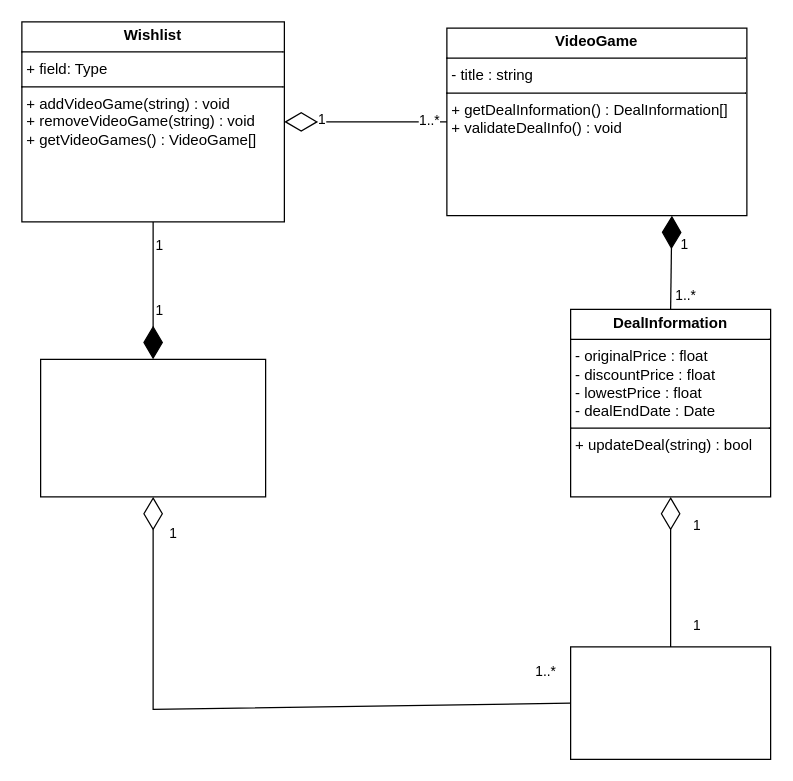
Image size: 793x781. Some labels were removed from this diagram. Here are the shapes that lost their labels. From the top down, the centre of each, then its label:
(152,427): User - username : string - password : string + getWishList() : Wishlist
(670,702): Storefront - name : string - url : string - platform : string
